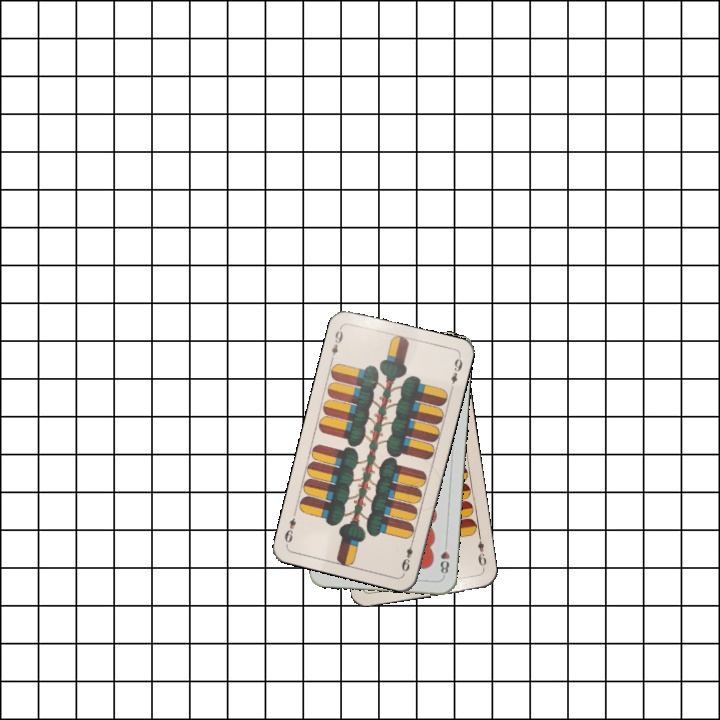E9: (327, 323, 346, 363), (397, 536, 416, 574), (474, 532, 489, 573)
H8: (436, 538, 452, 579)
